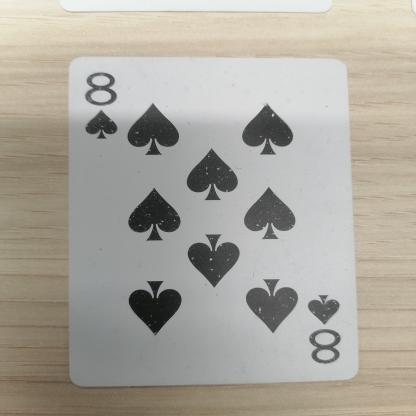8S: (75, 66, 135, 142), (300, 289, 354, 368)
